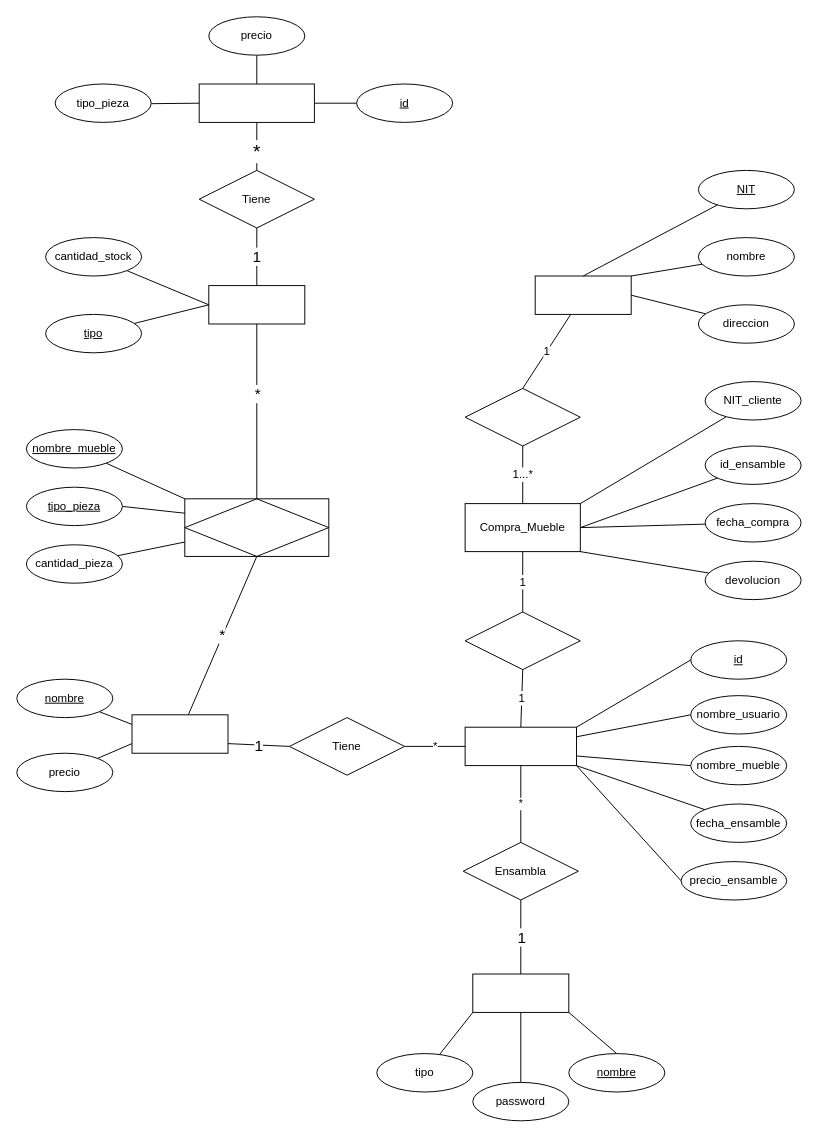
Some shapes in this 818 by 1138 pixel diagram are drawn without their labels. The box of each missing label's shape, as (x1, y1, x2, y2) in pixels:
Asignacion_Precio: (198, 83, 314, 122)
Cliente: (534, 275, 631, 314)
Encuentra: (464, 611, 580, 670)
Ensambe_Pieza: (184, 498, 329, 556)
Ensamble_Mueble: (464, 726, 576, 766)
Mueble: (131, 714, 228, 753)
Pieza: (208, 285, 305, 324)
Realiza: (464, 387, 580, 446)
Usuario: (472, 973, 569, 1012)
